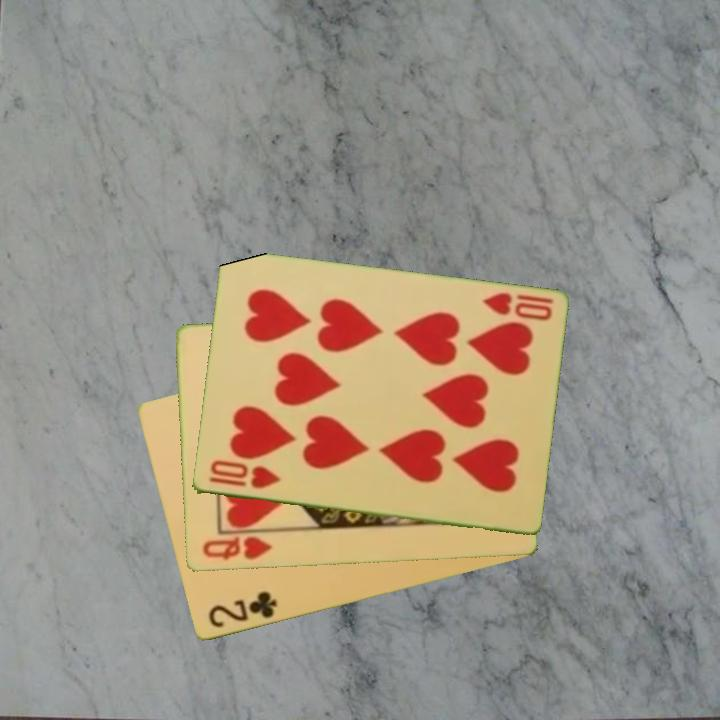10h: (477, 289, 556, 324), (204, 458, 283, 492)
2c: (204, 588, 279, 631)
Qh: (199, 533, 275, 564)
